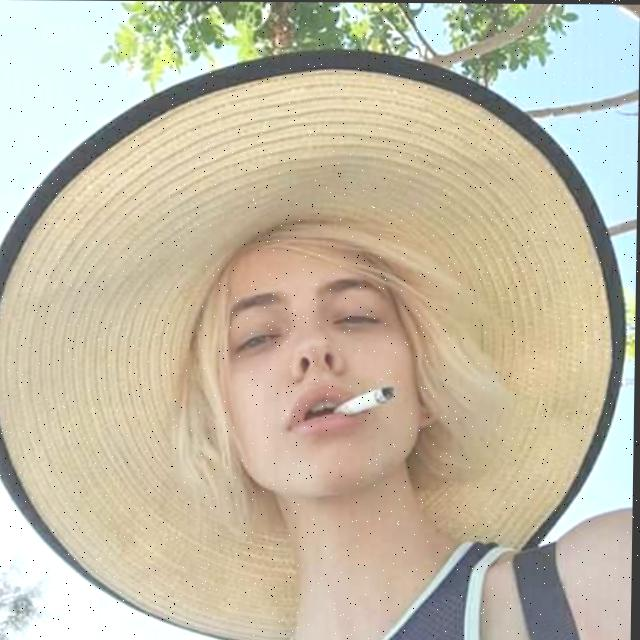cigarette: (334, 383, 399, 415)
